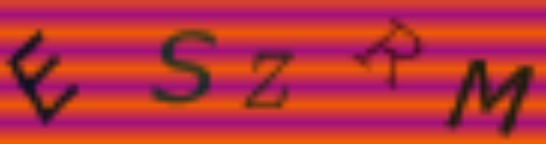E: (5, 23, 85, 126)
M: (442, 56, 536, 136)
R: (350, 17, 426, 94)
S: (145, 23, 223, 108)
Z: (240, 45, 296, 111)
